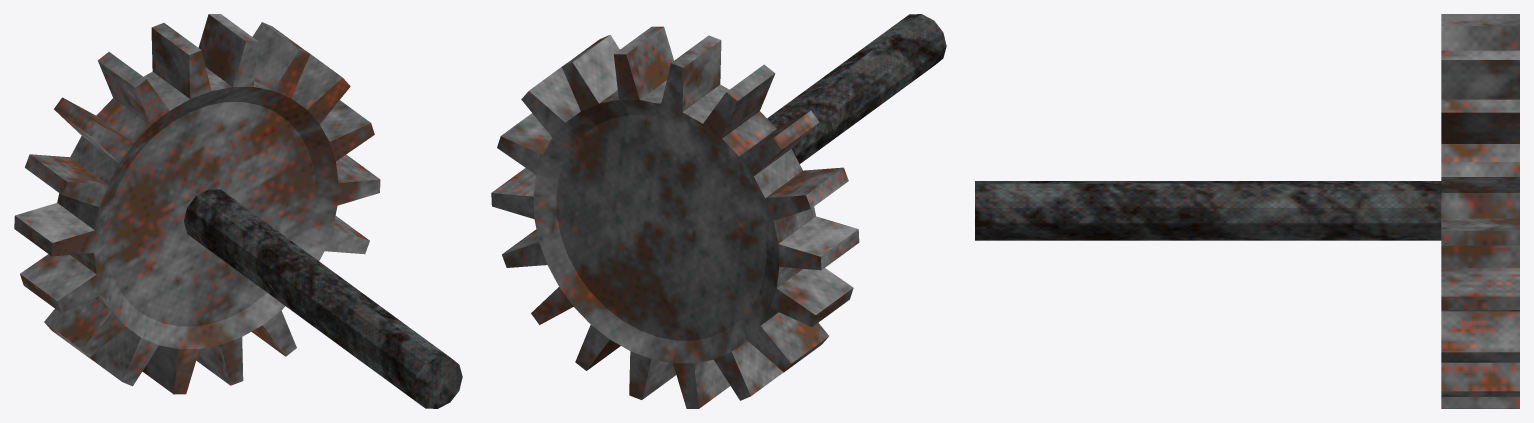
File: Gear.fbx
3 views of the same model, side by side, from view 1: azimuth 30°, elevation 25°; view 2: azimuth 150°, elevation 25°; view 3: azimuth 270°, elevation 25° (orthographic). The views are drawn at different scales.
Visible parts, largest first — view 1: Gear; view 2: Gear; view 3: Gear.
Boxes of the visible parts, box(x1,y1,x2,y2) form: Gear: box(14, 14, 462, 408); Gear: box(491, 14, 946, 408); Gear: box(975, 14, 1519, 408).
Size of the model in its own units: 2.7 by 3.72 by 2.69.
